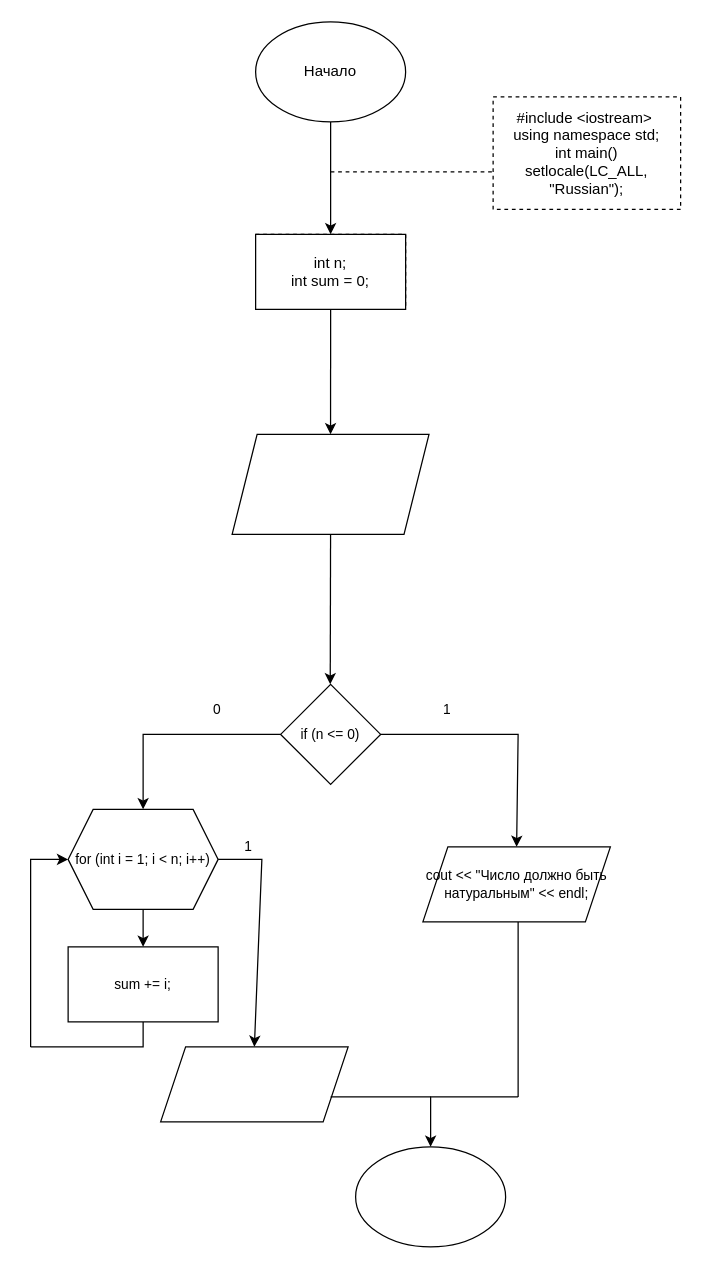
Some shapes in this 703 by 1269 pixel diagram are drawn without their labels. The shapes that lost their labels are listed below. From the top down, each one's centre as x and y in pixels, then its label:
At point (330, 483): "cin >> n ;".
At point (253, 1084): "cout << sum << endl;".
At point (430, 1196): "Завершение".
